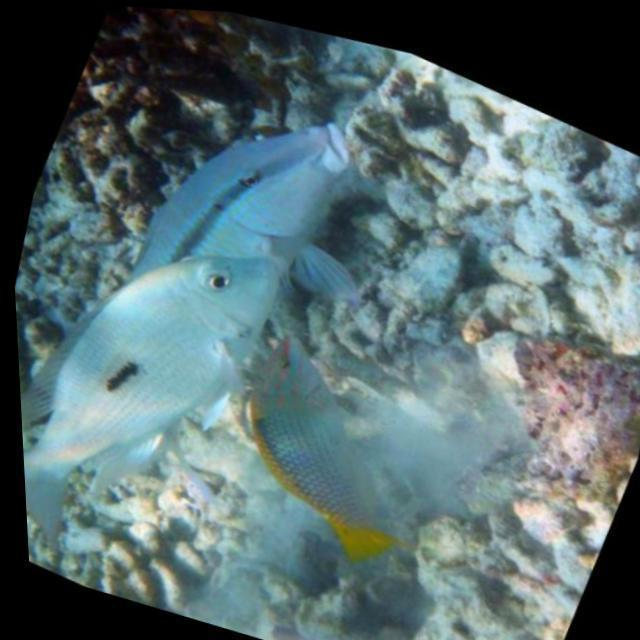Dead Coral: (298, 13, 640, 378), (29, 1, 300, 248), (366, 456, 614, 640)
